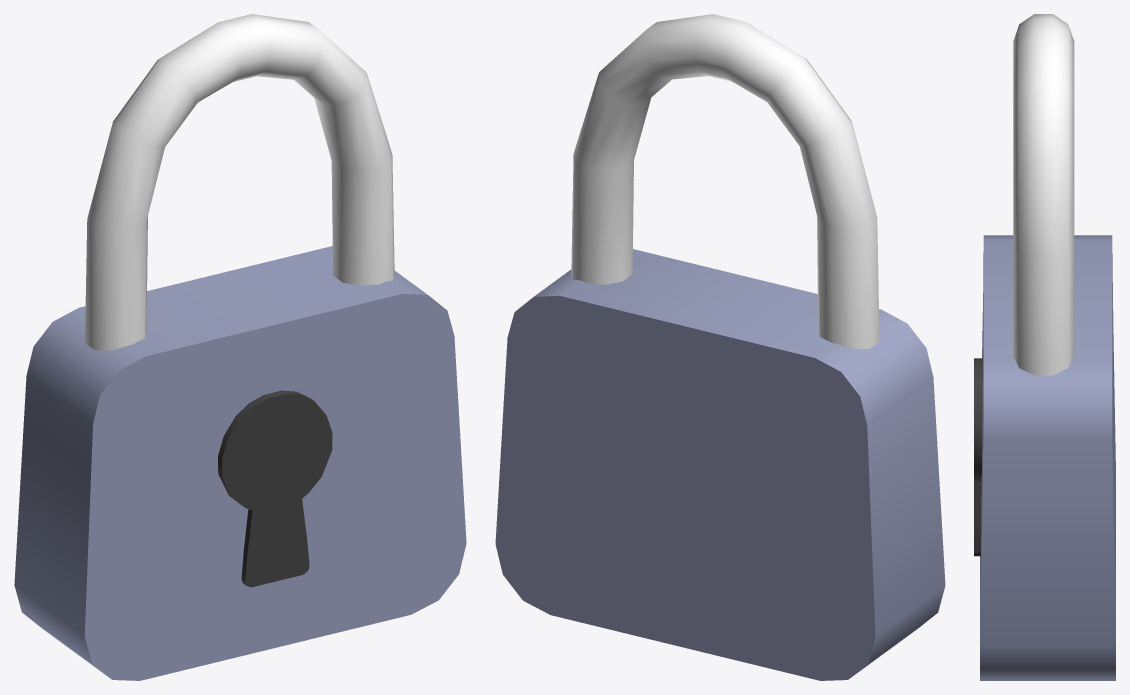
The model's file is Lock_3.fbx.
3 views of the same model, side by side, from view 1: azimuth 30°, elevation 25°; view 2: azimuth 150°, elevation 25°; view 3: azimuth 270°, elevation 25° (orthographic). The views are drawn at different scales.
Parts seen in each view (by area): view 1: Lock_3; view 2: Lock_3; view 3: Lock_3.
Part boxes in pixels (bbox=[...]): Lock_3: bbox=[14, 14, 466, 680]; Lock_3: bbox=[495, 14, 945, 680]; Lock_3: bbox=[974, 14, 1115, 680].
Bounding box in the file's own units: 0.1049 × 0.1582 × 0.0349.
